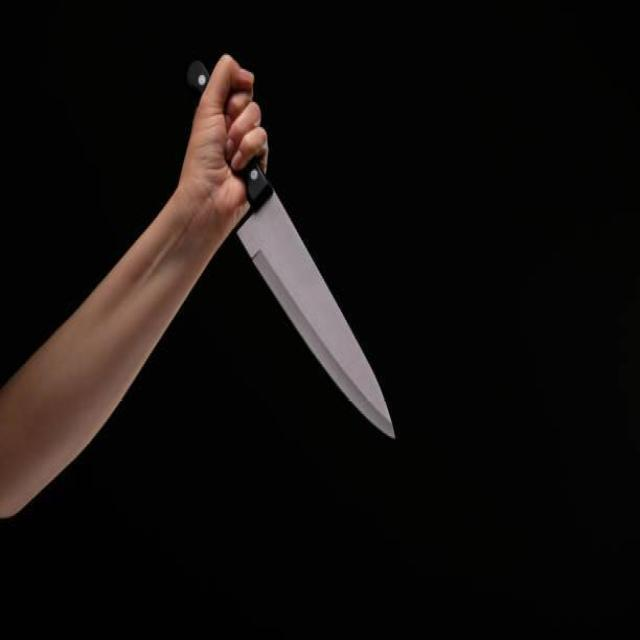faca: (174, 25, 402, 449)
